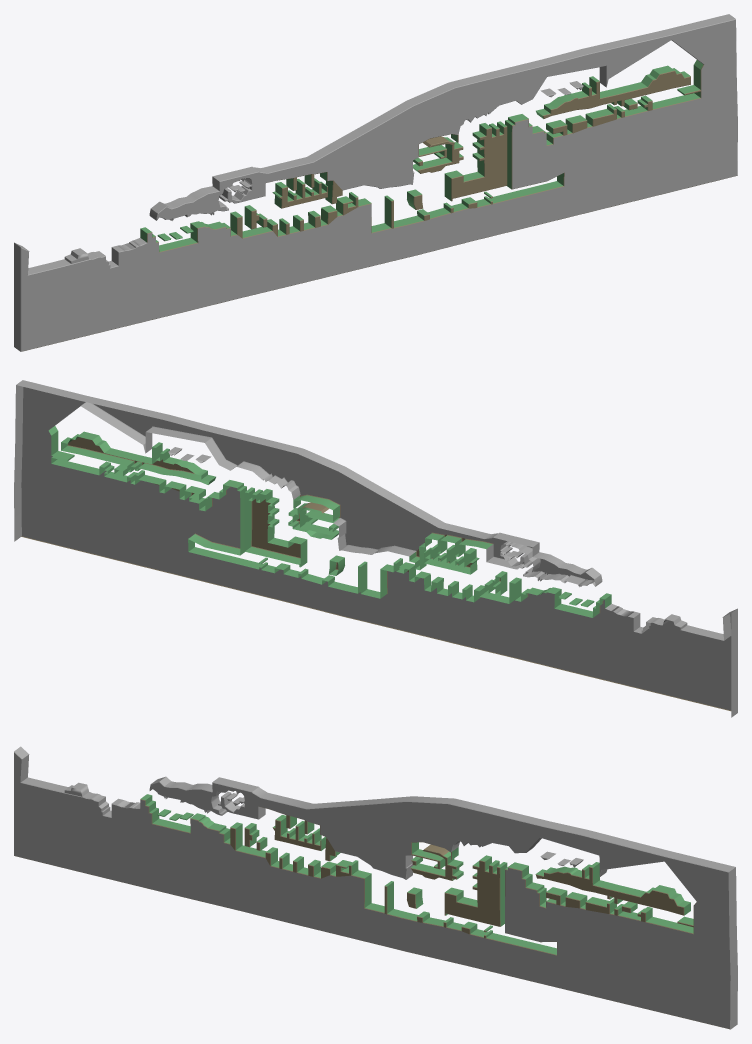
Rendered from intro_LevelGreybox_01_mesh.fbx.
The picture shows the model from 3 angles, top to bottom: view 1: azimuth 30°, elevation 25°; view 2: azimuth 150°, elevation 25°; view 3: azimuth 330°, elevation 25°; orthographic projection.
Parts seen in each view (by area): view 1: tutorialLevel; view 2: tutorialLevel; view 3: tutorialLevel.
Part boxes in pixels (x1,y1,x2,y2): tutorialLevel: (14, 14, 737, 351); tutorialLevel: (14, 380, 737, 717); tutorialLevel: (14, 746, 737, 1029).
Size of the model in its own units: 588 by 125 by 10.2.
